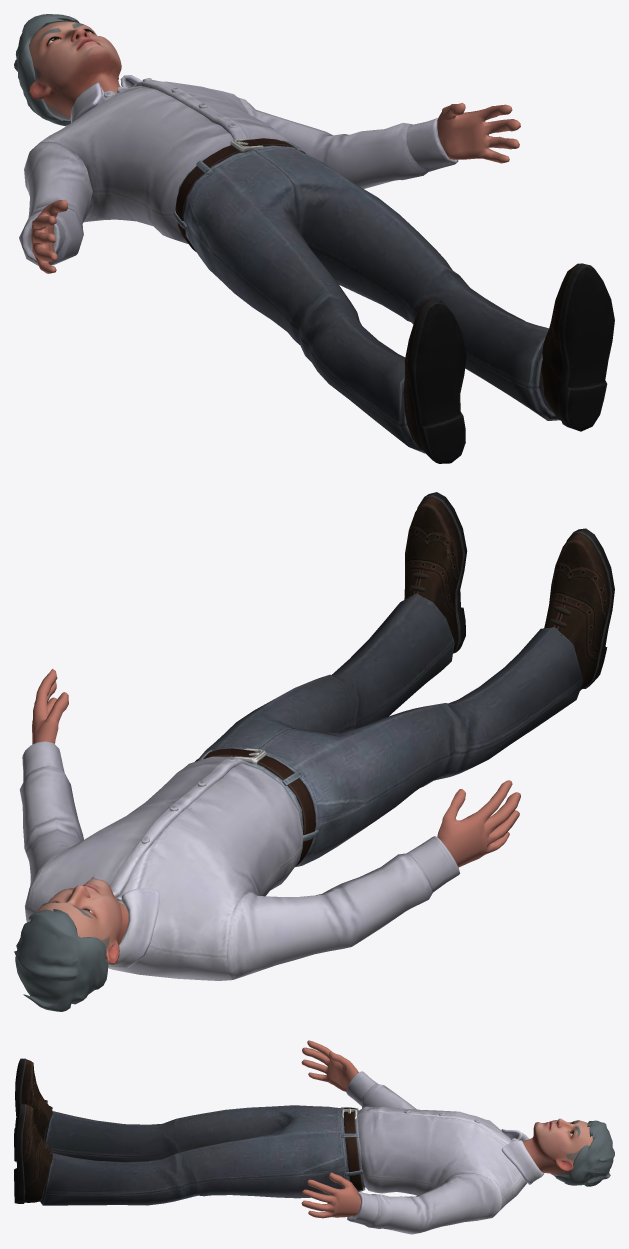
Rendered from presi.glb.
3 renders of one model, top to bottom at view 1: azimuth 30°, elevation 25°; view 2: azimuth 150°, elevation 25°; view 3: azimuth 270°, elevation 25°, orthographic. The views are drawn at different scales.
Parts seen in each view (by area): view 1: Wolf3D_Outfit_Bottom, Wolf3D_Outfit_Top, Wolf3D_Outfit_Footwear, Wolf3D_Head, Wolf3D_Body, Wolf3D_Hair; view 2: Wolf3D_Outfit_Top, Wolf3D_Outfit_Bottom, Wolf3D_Outfit_Footwear, Wolf3D_Hair, Wolf3D_Body, Wolf3D_Head; view 3: Wolf3D_Outfit_Bottom, Wolf3D_Outfit_Top, Wolf3D_Outfit_Footwear, Wolf3D_Body, Wolf3D_Head, Wolf3D_Hair.
Boxes of the visible parts, x1,y1,x2,y2 form: Wolf3D_Outfit_Bottom: (173, 138, 559, 453); Wolf3D_Outfit_Top: (19, 75, 458, 265); Wolf3D_Outfit_Footwear: (403, 263, 614, 463); Wolf3D_Head: (29, 21, 121, 119); Wolf3D_Body: (31, 102, 520, 273); Wolf3D_Hair: (14, 14, 79, 126); Wolf3D_Outfit_Top: (19, 741, 459, 980); Wolf3D_Outfit_Bottom: (195, 593, 583, 866); Wolf3D_Outfit_Footwear: (404, 492, 614, 690); Wolf3D_Hair: (14, 909, 108, 1011); Wolf3D_Body: (32, 669, 520, 867); Wolf3D_Head: (36, 879, 128, 964); Wolf3D_Outfit_Bottom: (40, 1105, 365, 1205); Wolf3D_Outfit_Top: (346, 1071, 544, 1234); Wolf3D_Outfit_Footwear: (14, 1058, 54, 1203); Wolf3D_Body: (301, 1040, 360, 1218); Wolf3D_Head: (523, 1118, 593, 1175); Wolf3D_Hair: (551, 1120, 614, 1186).
Size of the model in its own units: 1.06 by 0.3919 by 1.86.
Materials: 8 (8 with a texture image).
